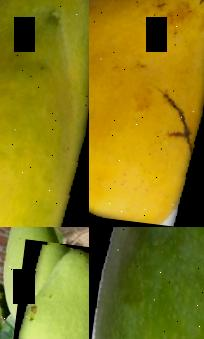PartiallyRipe: (0, 0, 89, 227)
Ripe: (89, 0, 204, 227)
Unripe: (89, 227, 204, 339), (11, 242, 89, 339)
